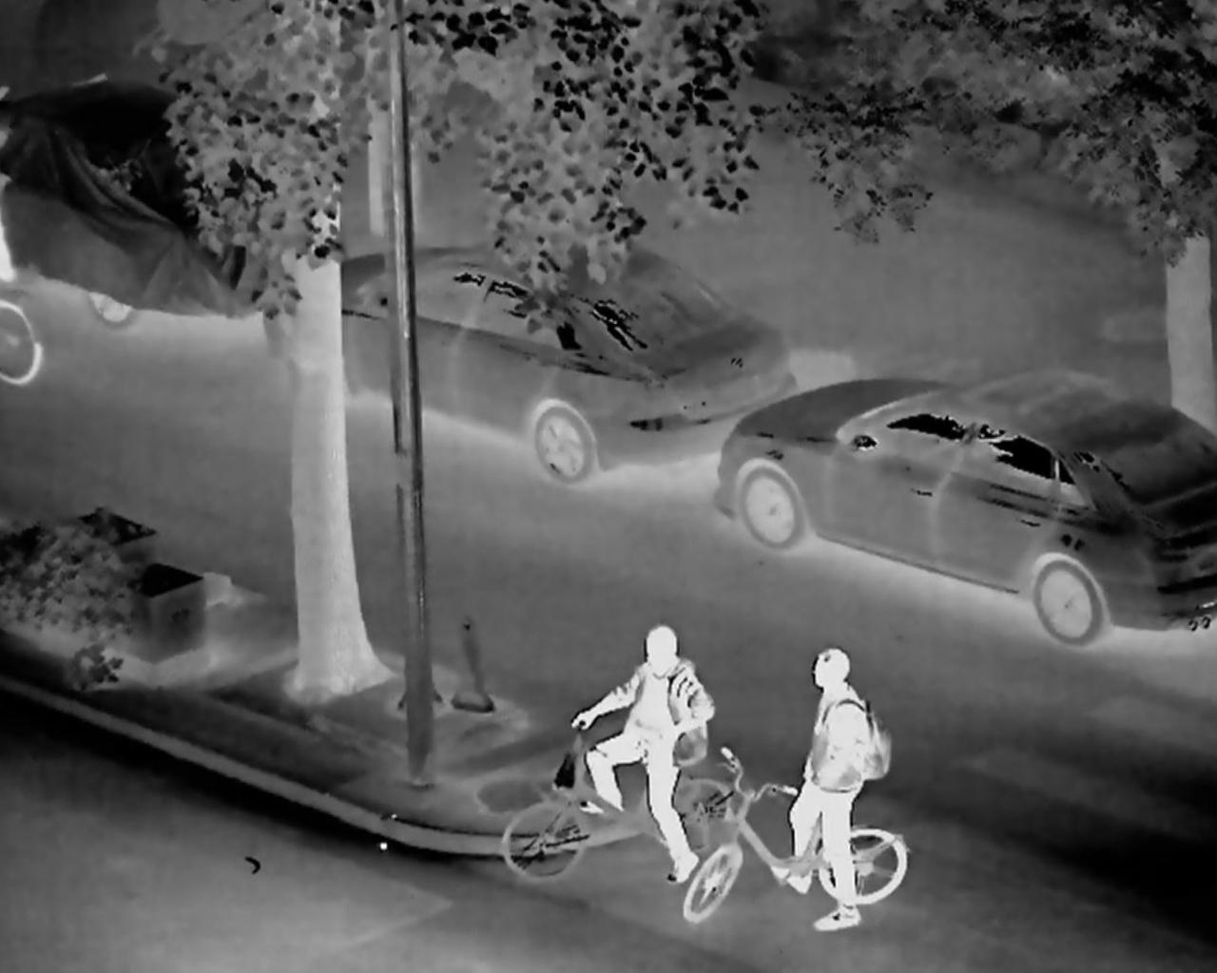person: (551, 602, 724, 888), (780, 632, 914, 941)
